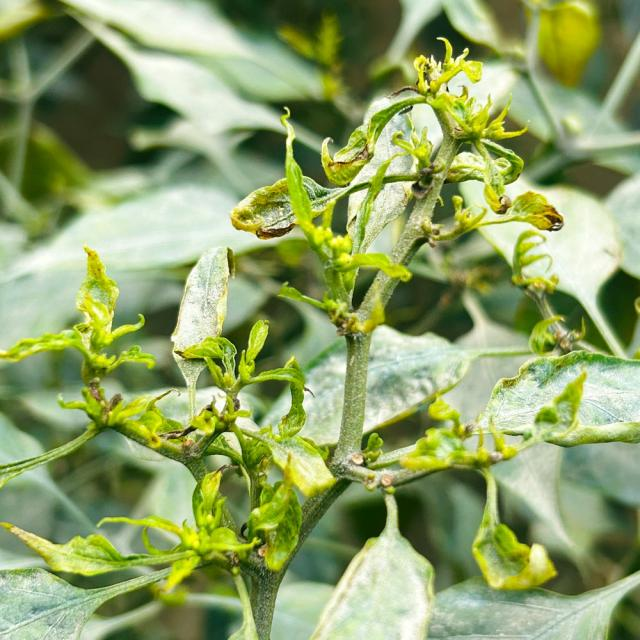Chilli_Leaf_Curl: (1, 30, 638, 638), (1, 242, 337, 636), (230, 36, 564, 338), (309, 488, 437, 638), (472, 349, 638, 449), (470, 465, 558, 591), (169, 244, 235, 390), (228, 172, 338, 240)
